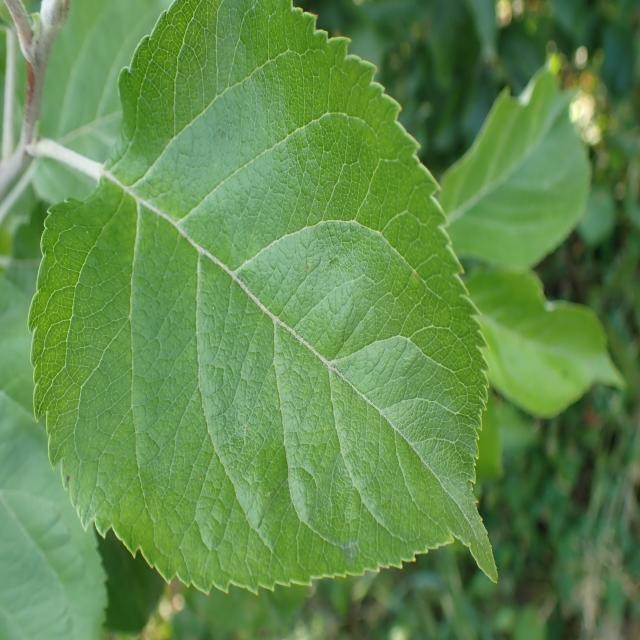healthy: (26, 0, 498, 598), (437, 55, 592, 272), (30, 0, 173, 205), (0, 391, 109, 640)
